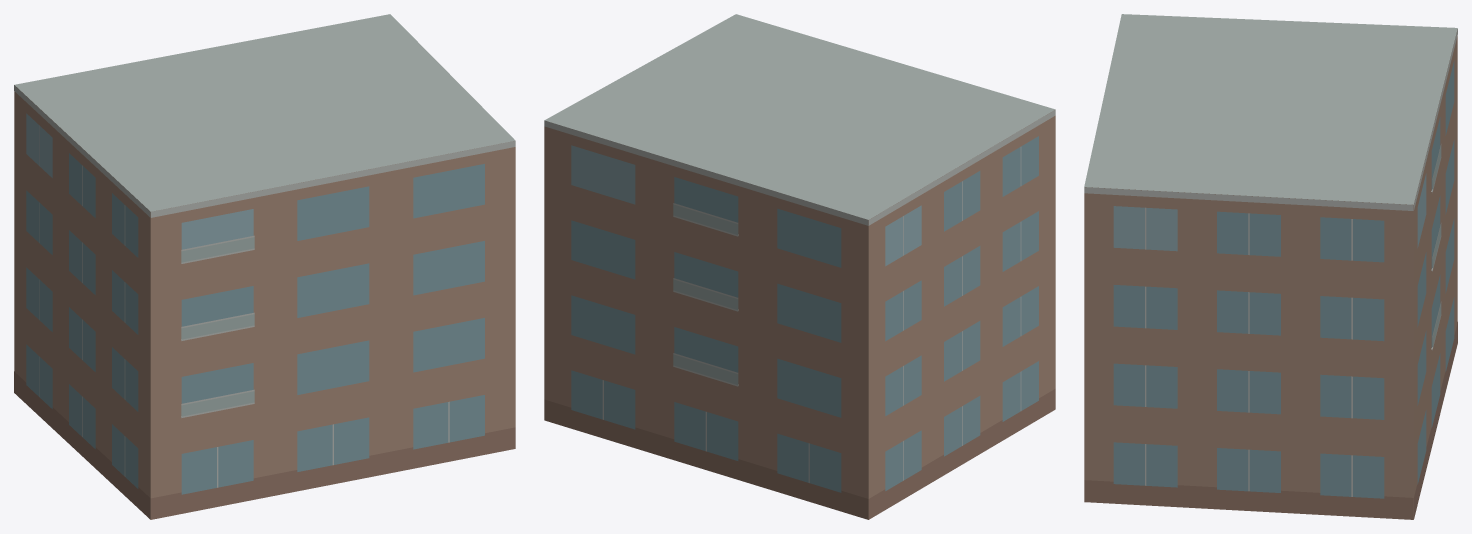
File: survey-upis-32943802.glb
3 renders of one model, left to right at view 1: azimuth 30°, elevation 25°; view 2: azimuth 150°, elevation 25°; view 3: azimuth 270°, elevation 25°, orthographic. The views are drawn at different scales.
Parts seen in each view (by area): view 1: survey-upis-32943802.tmp; view 2: survey-upis-32943802.tmp; view 3: survey-upis-32943802.tmp.
Boxes of the visible parts, bbox=[...] form: survey-upis-32943802.tmp: bbox=[14, 14, 515, 519]; survey-upis-32943802.tmp: bbox=[544, 14, 1055, 519]; survey-upis-32943802.tmp: bbox=[1084, 14, 1457, 519].
Size of the model in its own units: 15.86 by 12.2 by 13.12.
